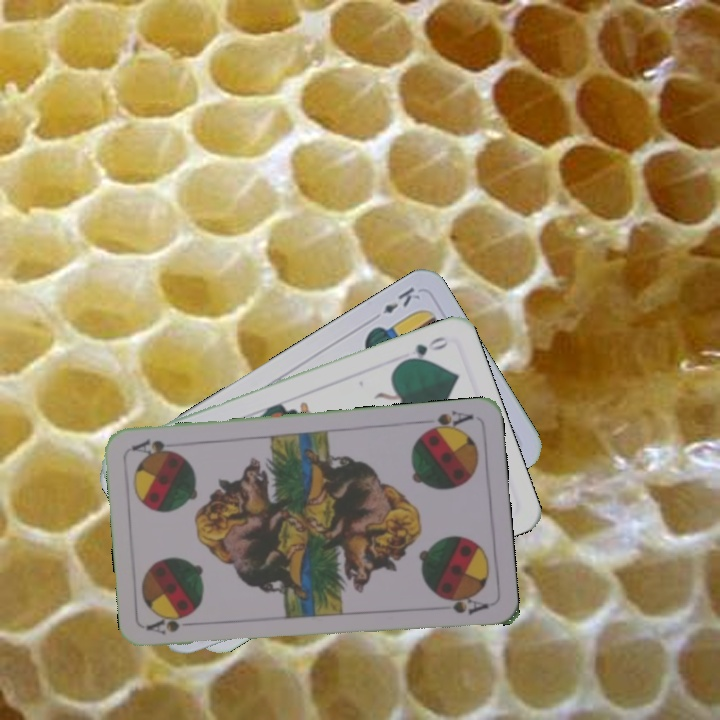EK: (378, 283, 423, 317)
GO: (397, 332, 451, 366)
SA: (417, 406, 476, 436), (144, 616, 203, 638)
